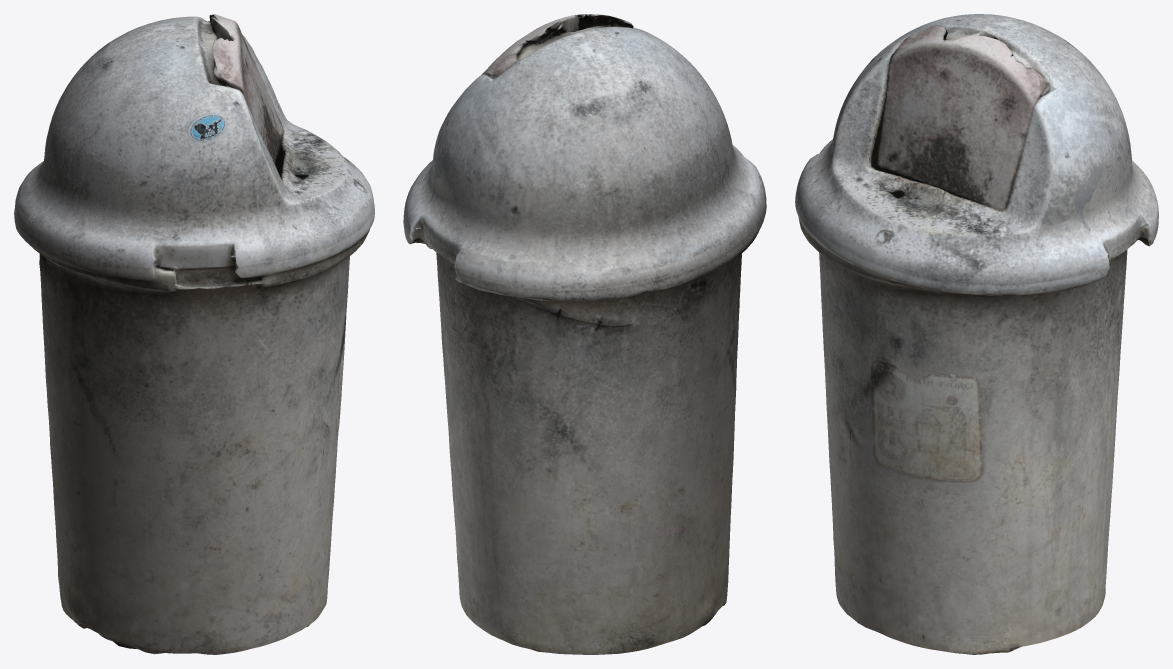
Rendered from dirty_trash_bucket.glb.
3 views of the same model, side by side, from view 1: azimuth 30°, elevation 25°; view 2: azimuth 150°, elevation 25°; view 3: azimuth 270°, elevation 25° (orthographic).
Parts seen in each view (by area): view 1: Object_2; view 2: Object_2; view 3: Object_2.
Part boxes in pixels (box(x1,y1,x2,y2)): Object_2: box(14, 14, 374, 654); Object_2: box(403, 14, 766, 654); Object_2: box(795, 14, 1158, 654).
Bounding box in the file's own units: 0.6248 × 1.1 × 0.6269.
Materials: 1 (1 with a texture image).
